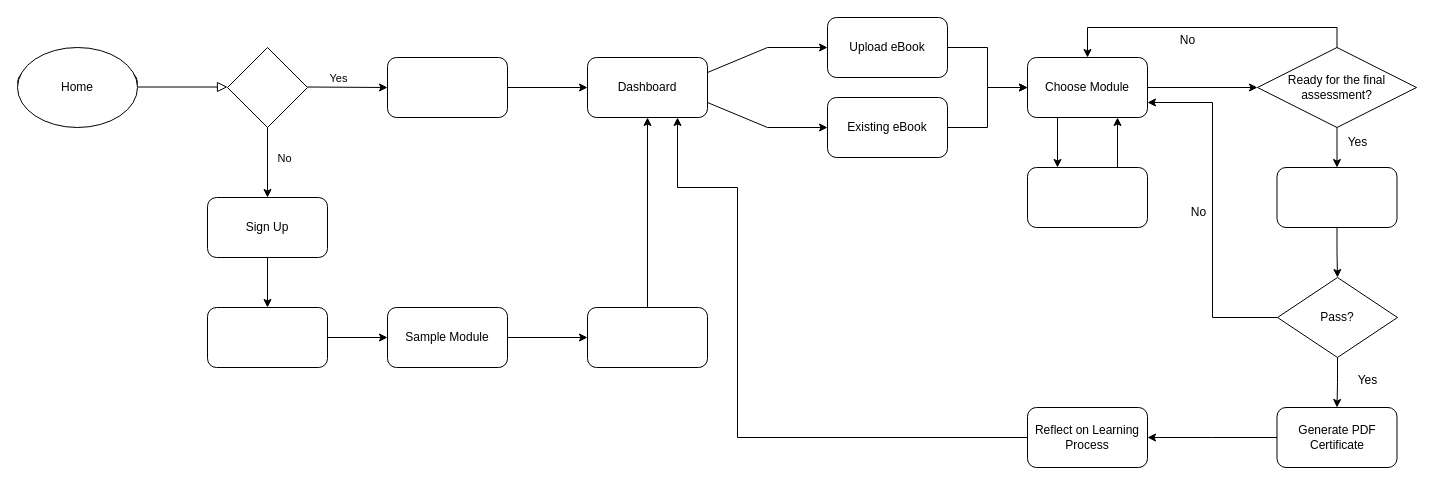
Image size: 1434x485. Some labels were removed from this diagram. The centre of each missing label's shape, as x and y in pixels:
"Already a Member?" belongs at (x=267, y=87).
"Followup Quiz" belongs at (x=647, y=337).
"Log In" belongs at (x=447, y=87).
"Onboarding Quiz" belongs at (x=267, y=337).
"Take Final Assessment" belongs at (x=1336, y=197).
"Take Quiz" belongs at (x=1087, y=197).
